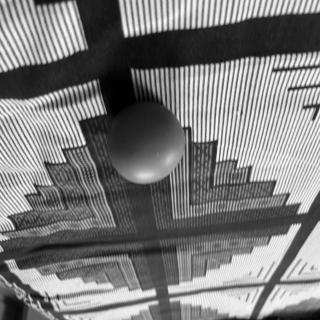Telur: (106, 99, 188, 187)
